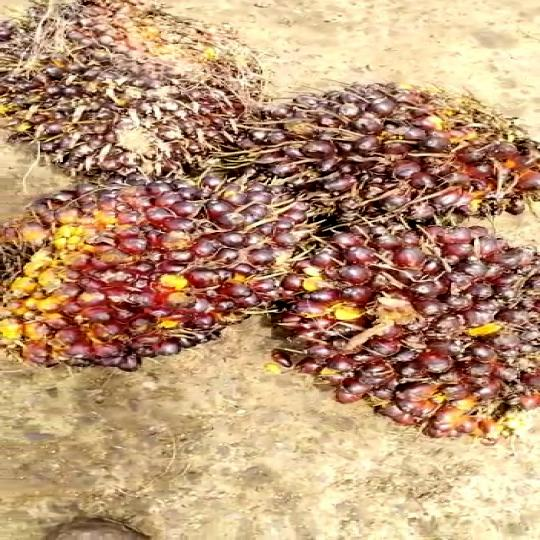kurang masak: (256, 201, 535, 438), (0, 165, 295, 358), (0, 0, 259, 166), (221, 89, 540, 222)
